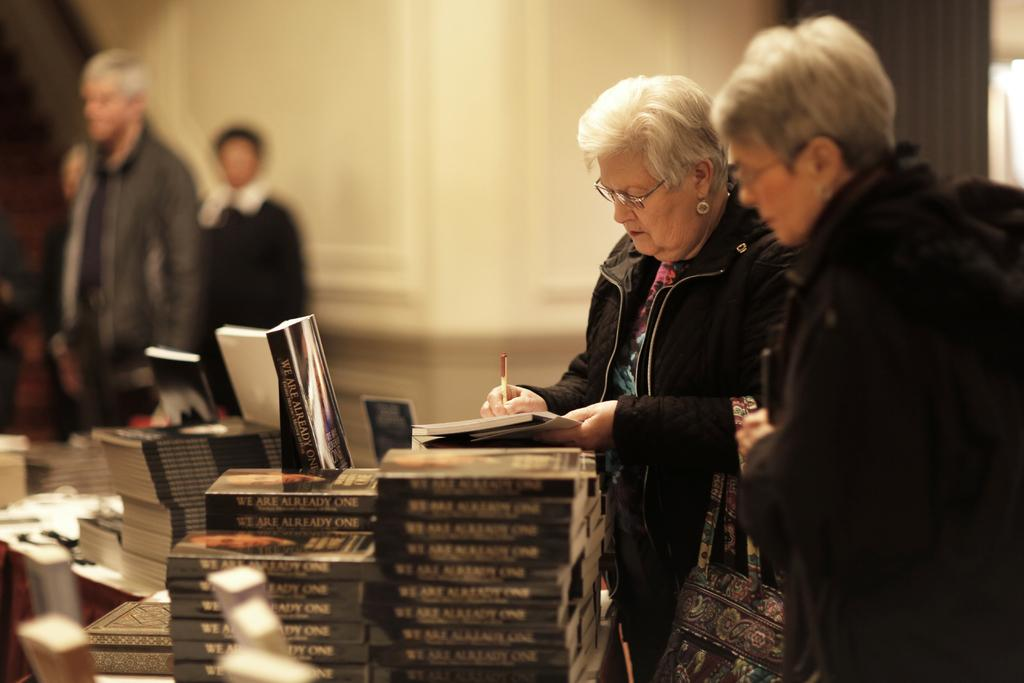Book: (0, 403, 631, 682), (250, 324, 362, 513)
